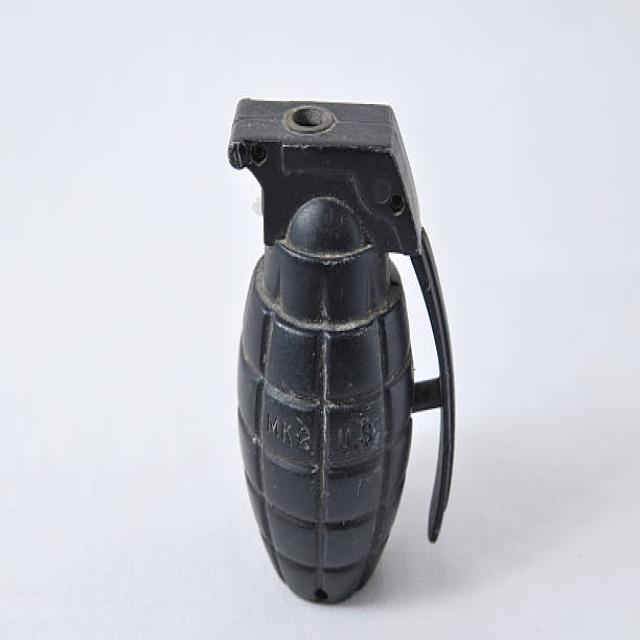grenade: (222, 88, 456, 609)
